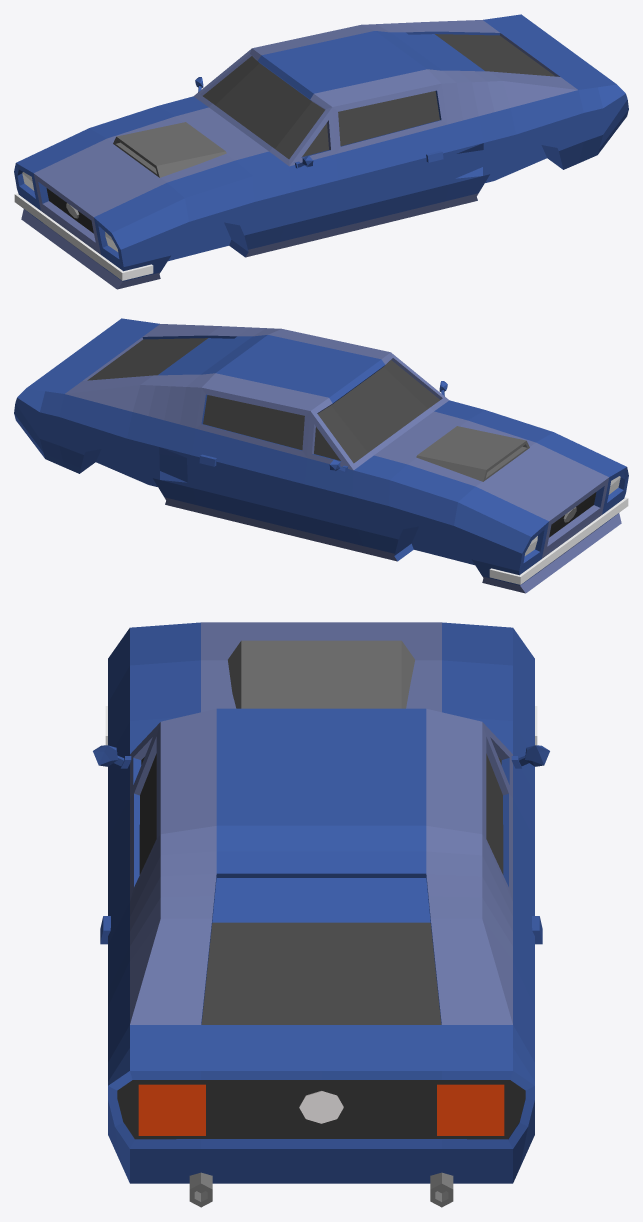
The model's file is car_F_body.fbx.
The picture shows the model from 3 angles, top to bottom: view 1: azimuth 30°, elevation 25°; view 2: azimuth 150°, elevation 25°; view 3: azimuth 270°, elevation 25°; orthographic projection. The views are drawn at different scales.
Visible parts, largest first — view 1: American1; view 2: American1; view 3: American1.
Part boxes in pixels (<box>): American1: <box>14,14,628,289</box>; American1: <box>14,318,628,593</box>; American1: <box>93,622,549,1207</box>.
Bounding box in the file's own units: 1673 × 393 × 643.
